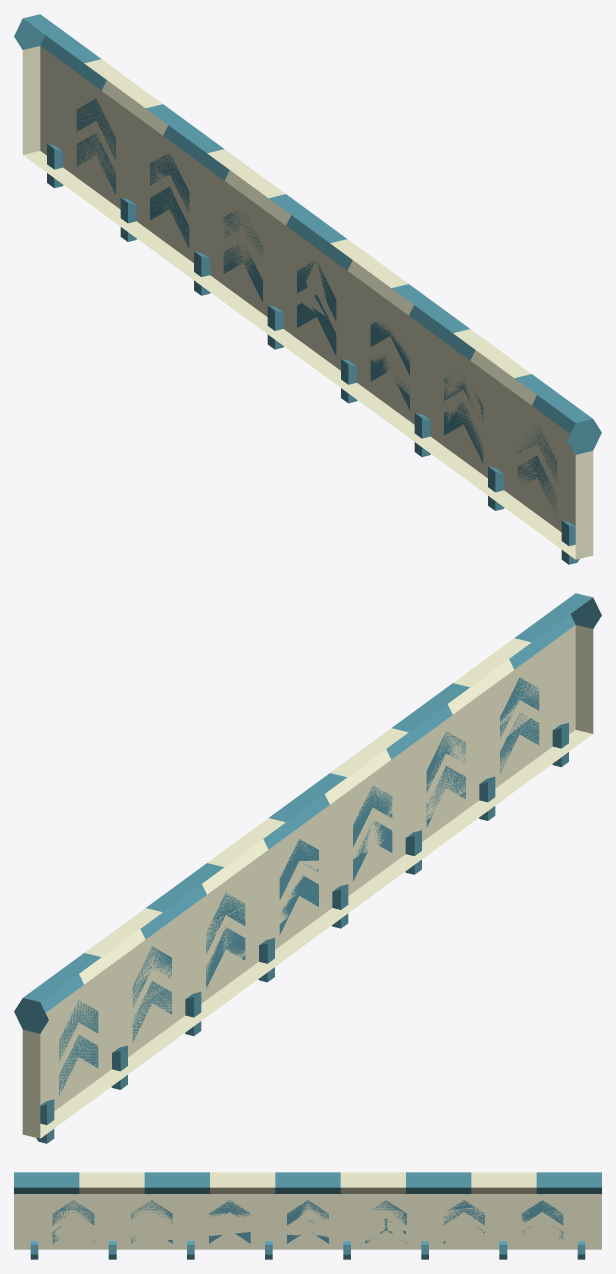
The model's file is Gatecompleted.fbx.
3 views of the same model, one above another, from view 1: azimuth 30°, elevation 25°; view 2: azimuth 150°, elevation 25°; view 3: azimuth 270°, elevation 25° (orthographic). The views are drawn at different scales.
Visible parts, largest first — view 1: GateCompleted; view 2: GateCompleted; view 3: GateCompleted.
Boxes of the visible parts, left/top/right/bottom form: GateCompleted: left=14, top=14, right=601, bottom=564; GateCompleted: left=14, top=593, right=601, bottom=1143; GateCompleted: left=14, top=1172, right=601, bottom=1259.
Bounding box in the file's own units: 46.16 × 186 × 1204.
